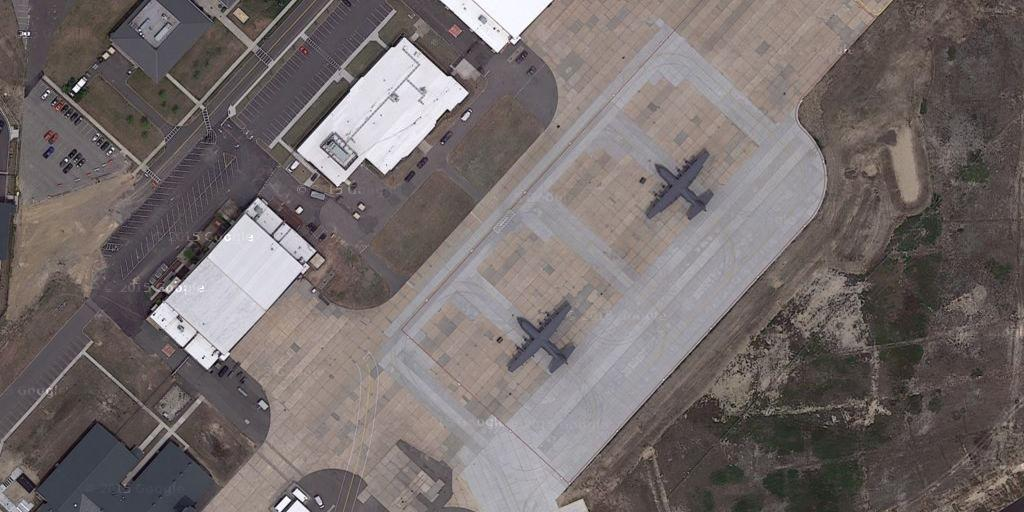C-130: (503, 303, 578, 374), (642, 151, 719, 220)
